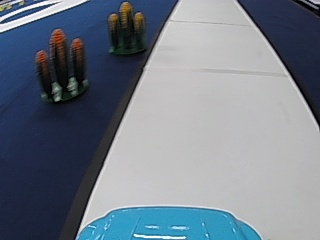corn: (36, 27, 89, 106), (106, 1, 147, 56)
